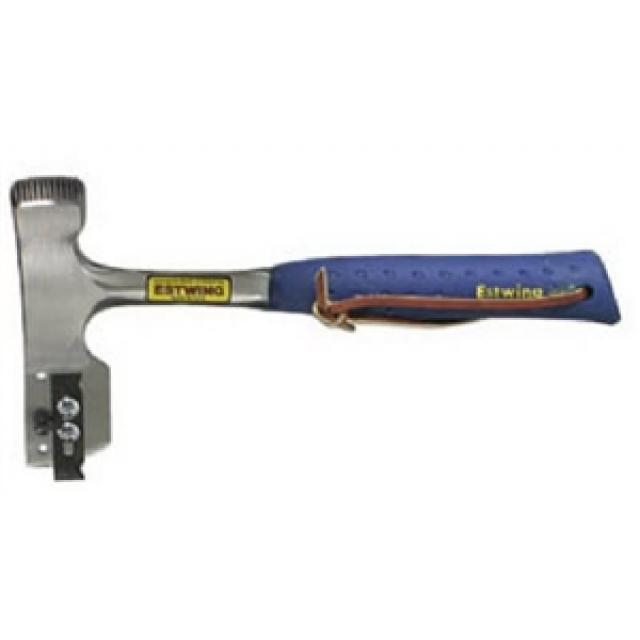hammer: (0, 161, 629, 497)
